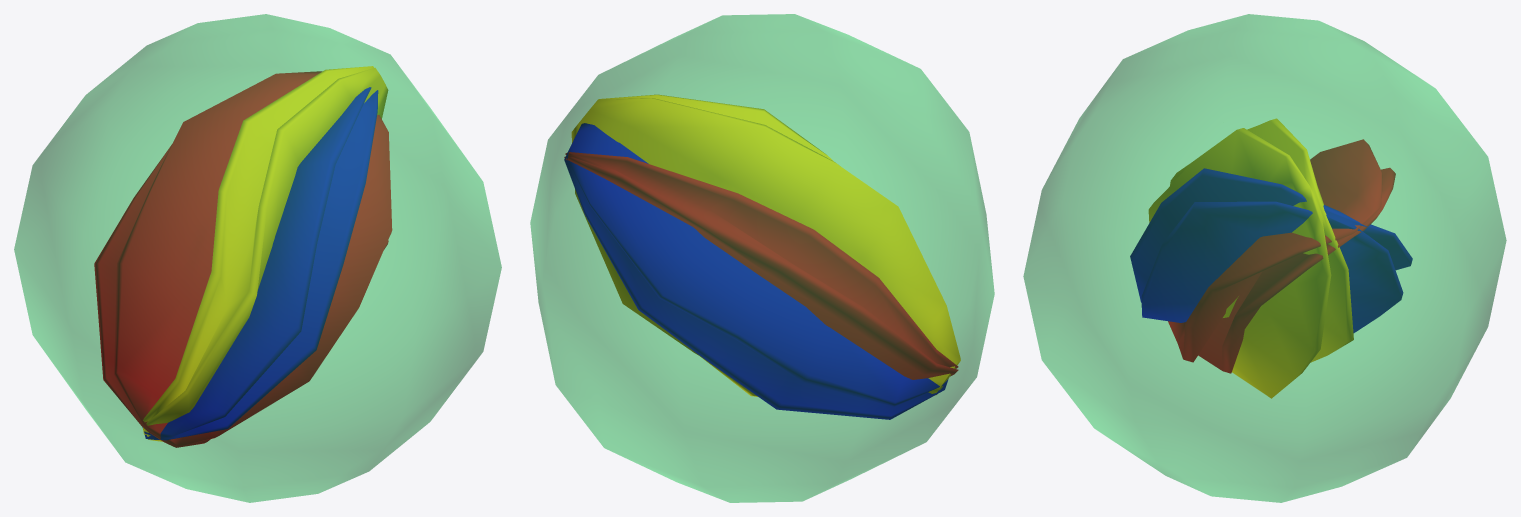
File: Marble.fbx
The picture shows the model from 3 angles, left to right: view 1: azimuth 30°, elevation 25°; view 2: azimuth 150°, elevation 25°; view 3: azimuth 270°, elevation 25°; orthographic projection.
Visible parts, largest first — view 1: BolaDeGude; view 2: BolaDeGude; view 3: BolaDeGude.
Boxes of the visible parts, x1,y1,x2,y2 form: BolaDeGude: (14, 14, 501, 502); BolaDeGude: (530, 14, 994, 502); BolaDeGude: (1023, 14, 1506, 502).
Bounding box in the file's own units: 2.17 × 2.2 × 2.17.
